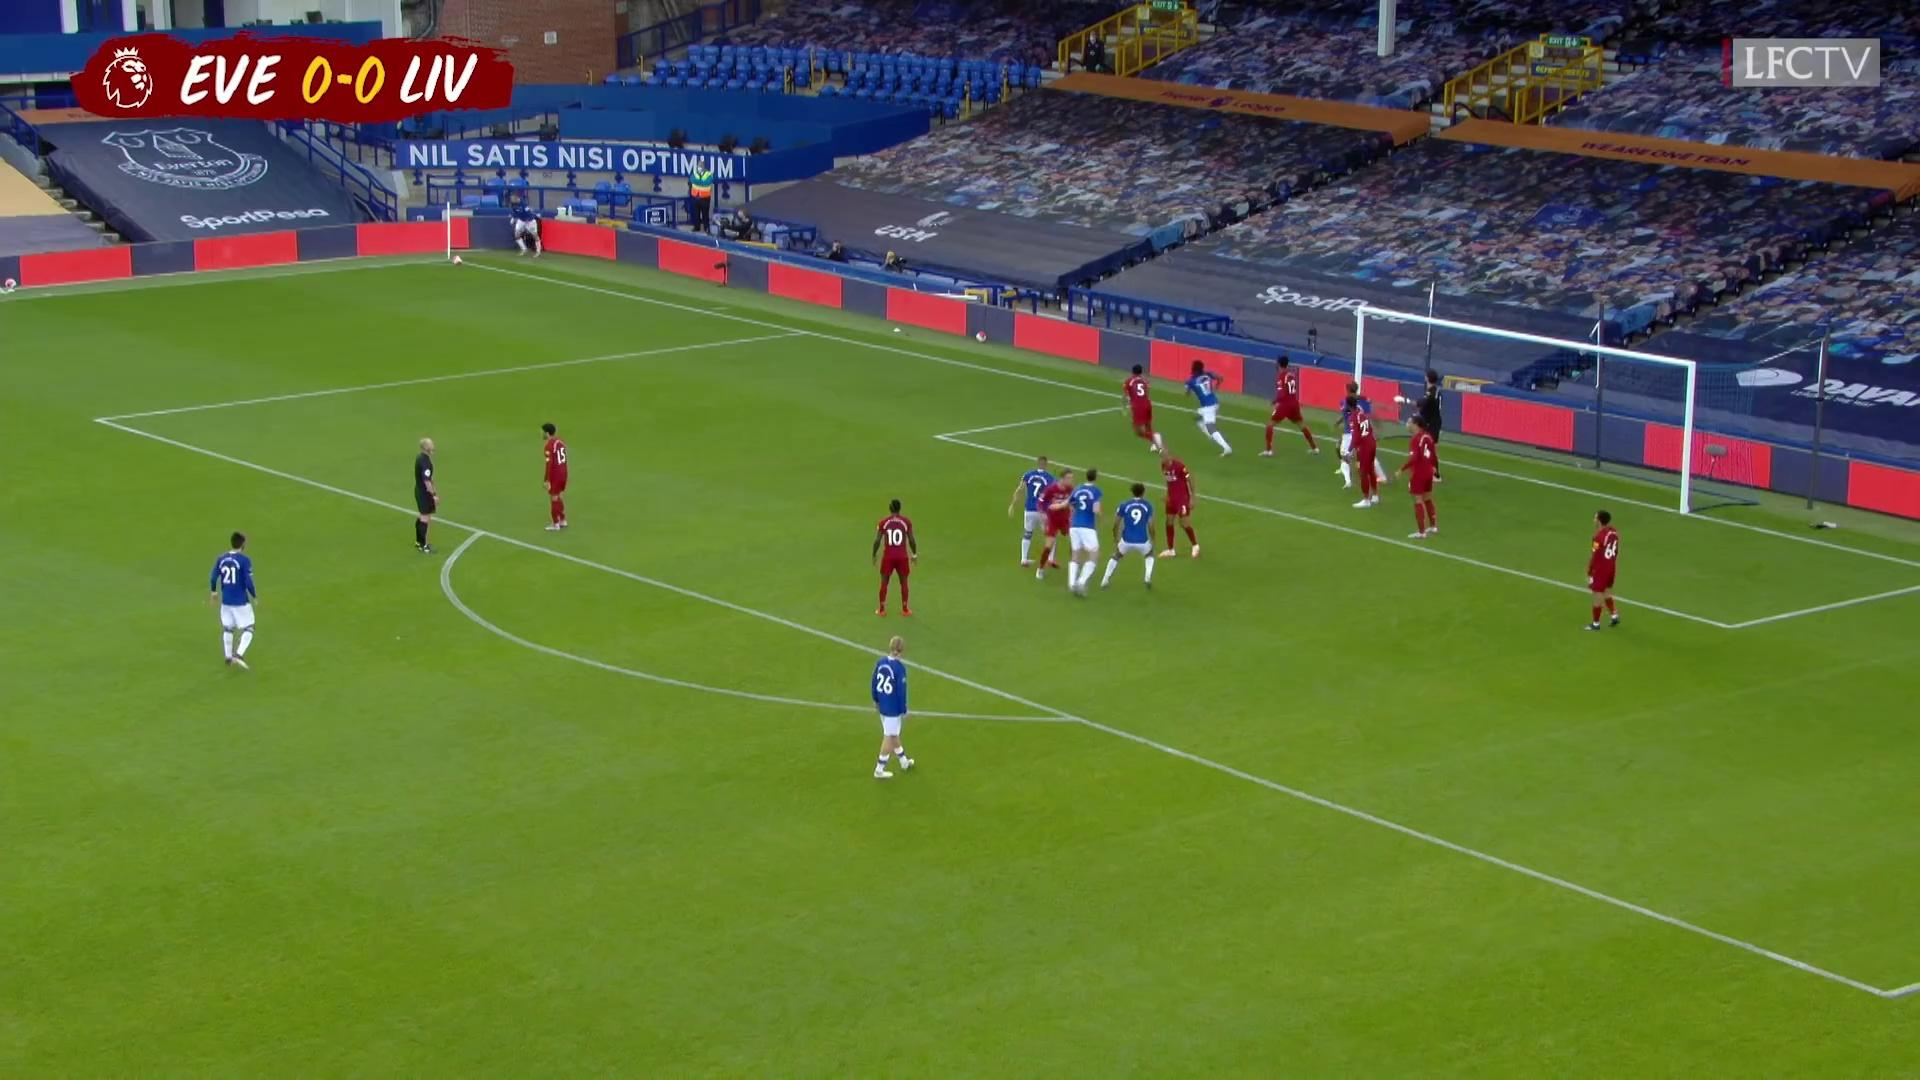ball: (449, 252, 465, 269)
goalkeeper: (1392, 367, 1448, 493)
player: (865, 635, 920, 784), (208, 533, 263, 678), (1397, 409, 1448, 541), (1034, 465, 1091, 581), (868, 498, 920, 625), (1260, 355, 1322, 461), (1103, 483, 1161, 596), (1580, 507, 1630, 638), (1012, 450, 1063, 578), (1156, 446, 1208, 563), (1065, 469, 1109, 603), (1346, 382, 1392, 510), (1187, 358, 1241, 463), (1122, 361, 1174, 455), (535, 419, 576, 537), (505, 186, 545, 262)
referee: (414, 432, 444, 557)
